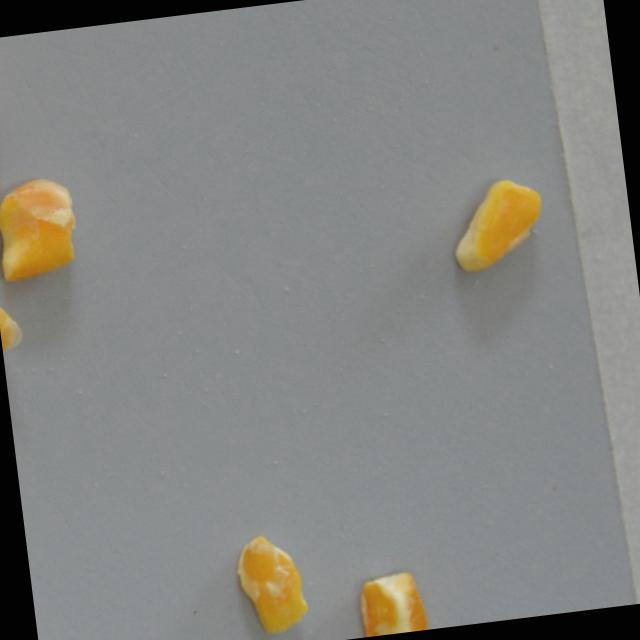dañado: (442, 171, 551, 275), (0, 173, 92, 288), (228, 524, 317, 640), (0, 253, 27, 357)
punto_negro: (355, 567, 434, 637)
